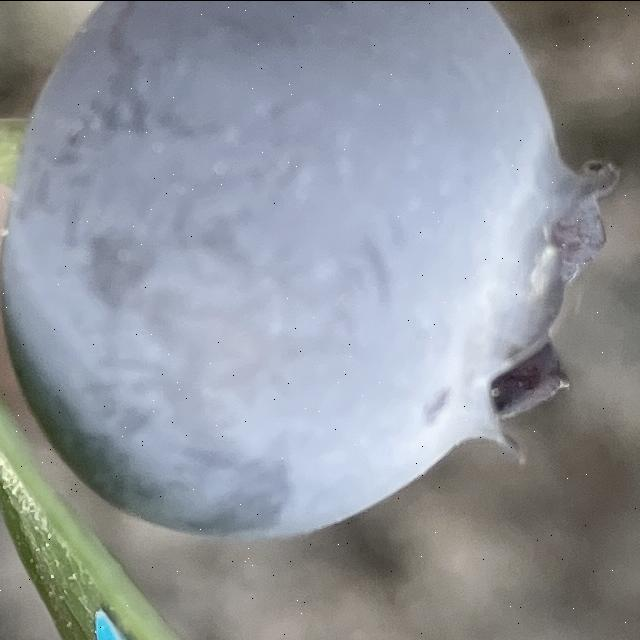Blueberries: (0, 0, 629, 551)
